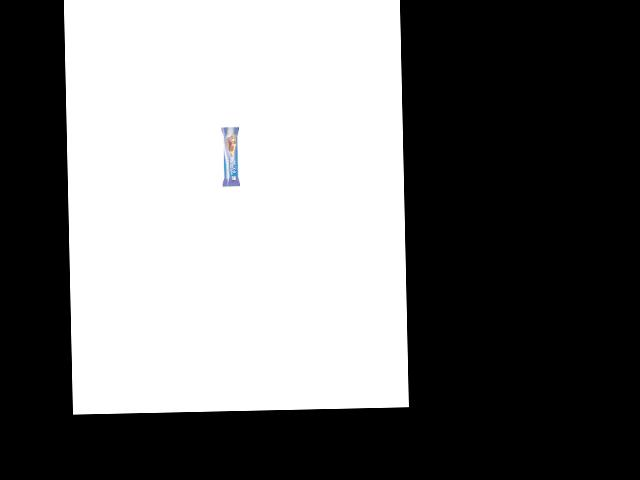chocolate: (220, 118, 246, 188)
